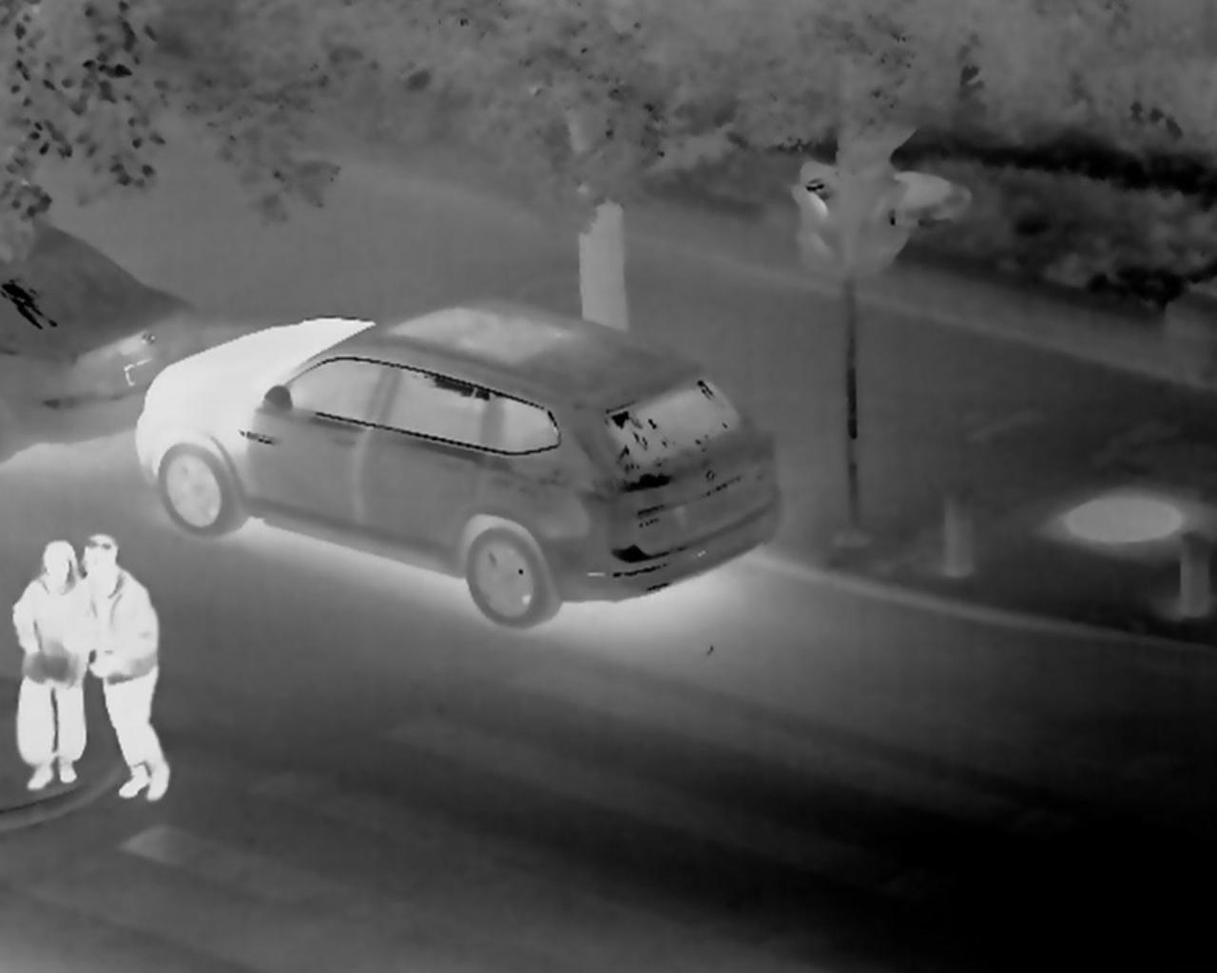person: (64, 533, 171, 801), (11, 535, 94, 792)
